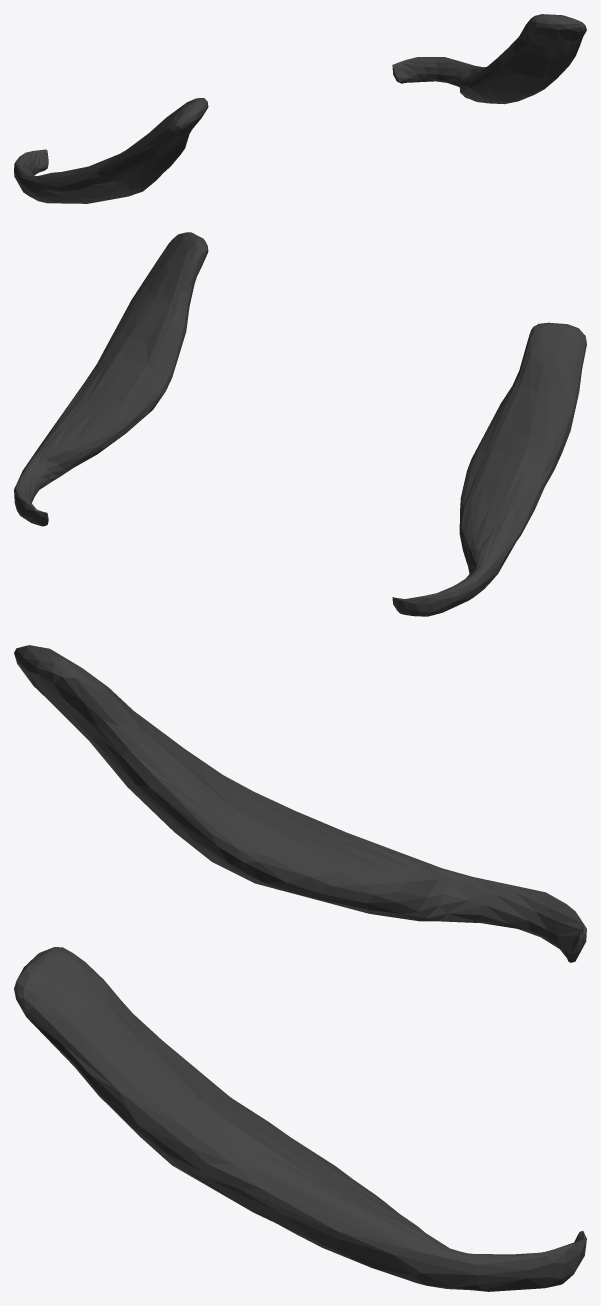
Rendered from m_gluteus_accessorius.glb.
3 renders of one model, top to bottom at view 1: azimuth 30°, elevation 25°; view 2: azimuth 150°, elevation 25°; view 3: azimuth 270°, elevation 25°, orthographic. The views are drawn at different scales.
Parts seen in each view (by area): view 1: m_gluteus_accessorius; view 2: m_gluteus_accessorius; view 3: m_gluteus_accessorius.
Boxes of the visible parts, x1,y1,x2,y2 form: m_gluteus_accessorius: (14,14,586,203); m_gluteus_accessorius: (14,232,586,616); m_gluteus_accessorius: (14,645,586,1291).
Bounding box in the file's own units: 0.00821 × 0.00304 × 0.00507.
Materials: 1 (1 with a texture image).
